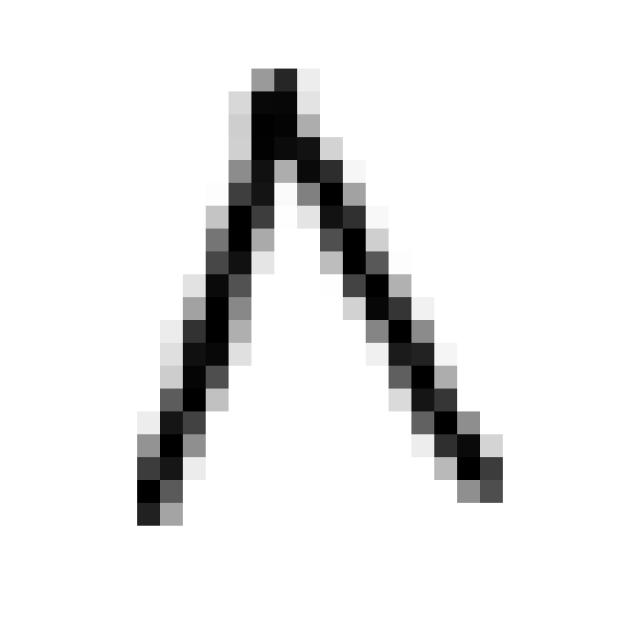8 -eight-: (108, 51, 524, 540)
